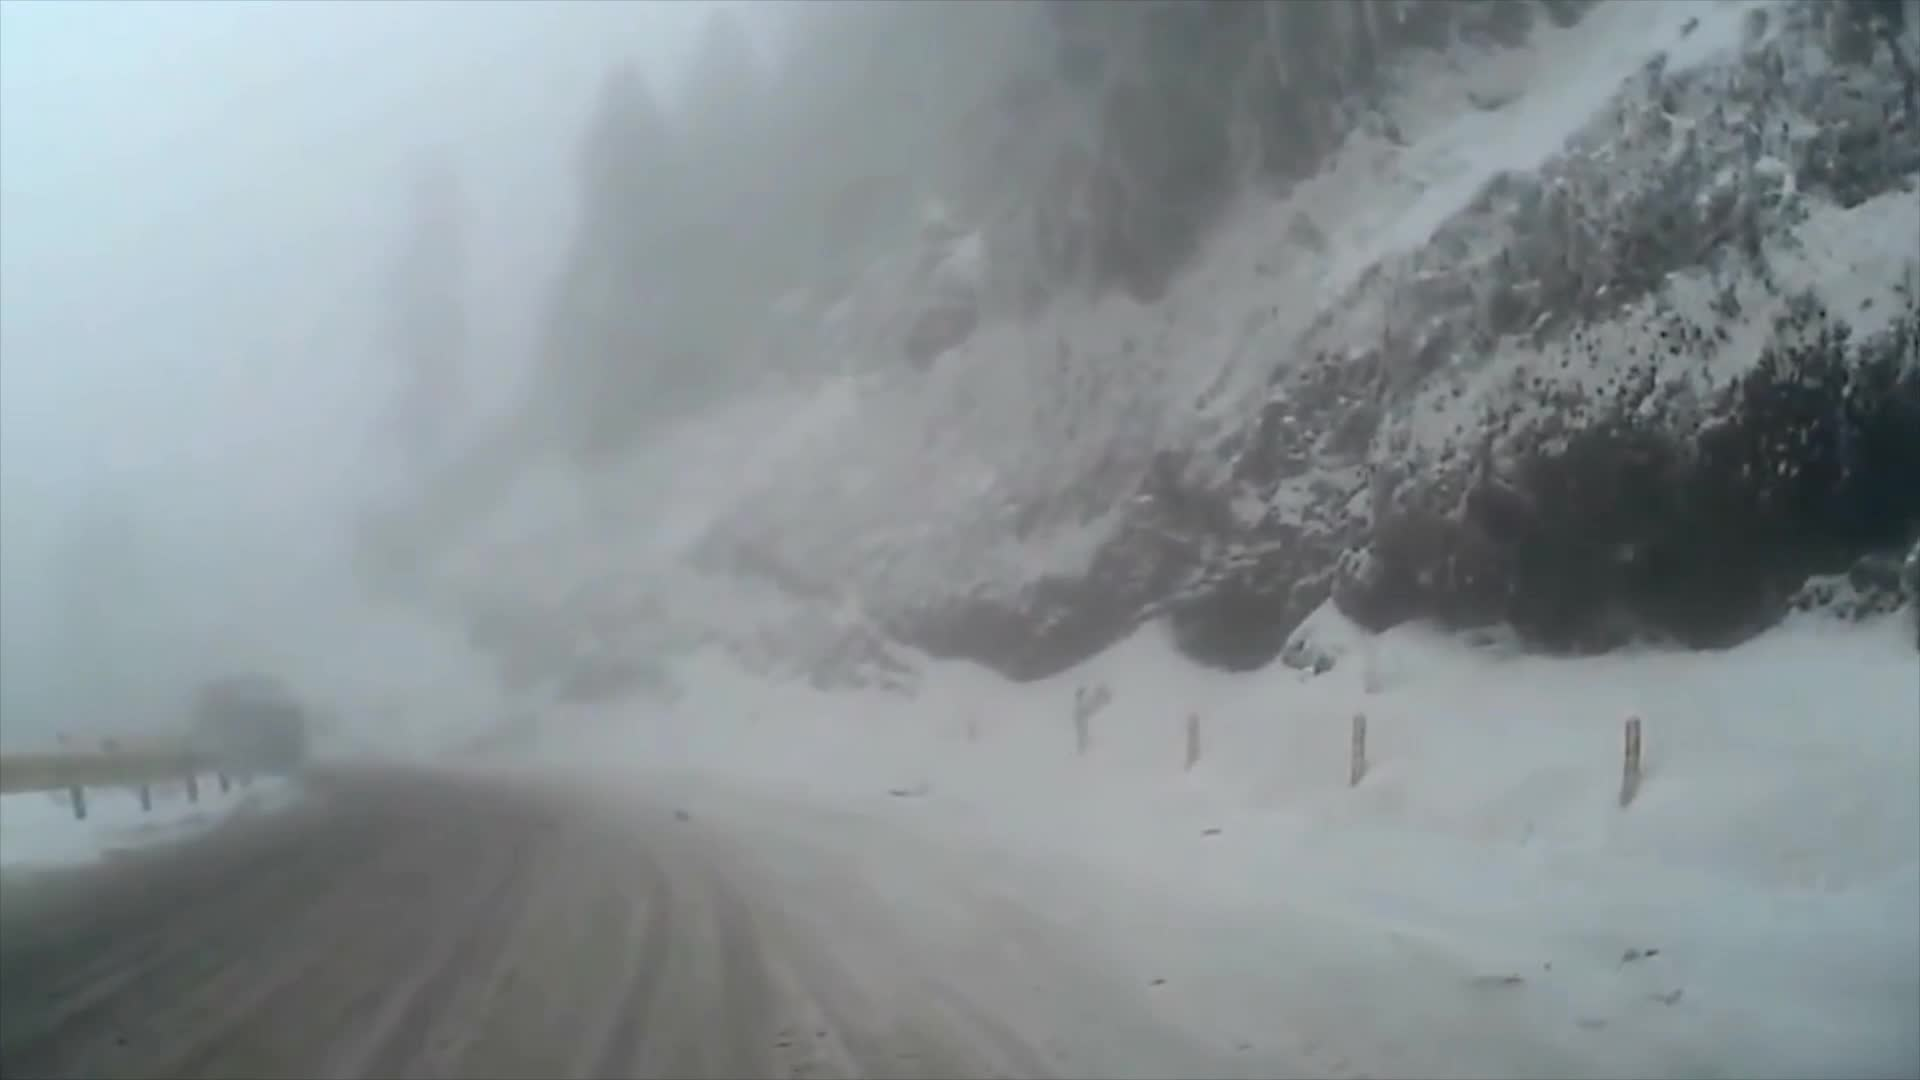vehicle: (193, 678, 303, 778)
